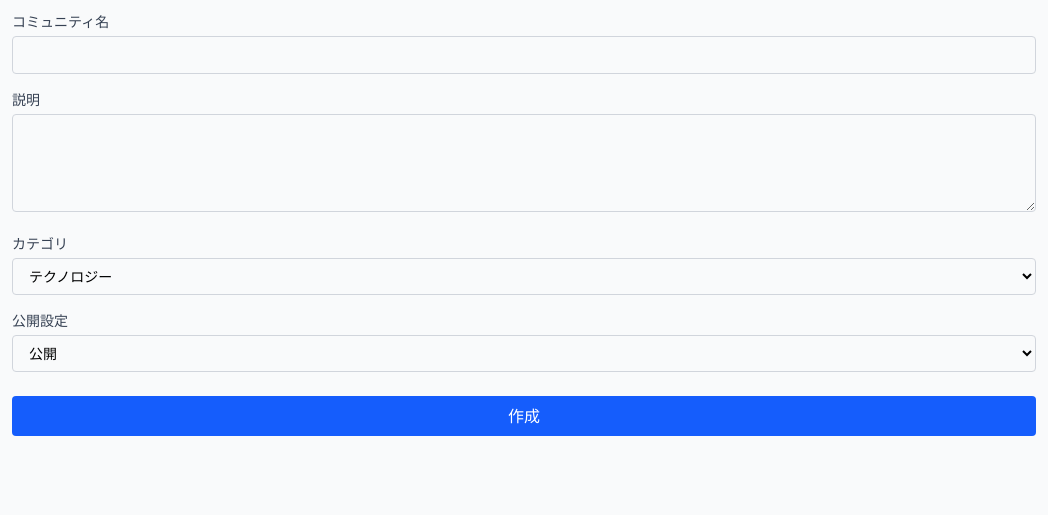
it: CommunityCreateForm コンポーネント › 説明が未入力で送信するとバリデーションエラーを表示する
Type "テスト名" into the field labelled "コミュニティ名" at (524, 55), box [12, 36, 1036, 74]
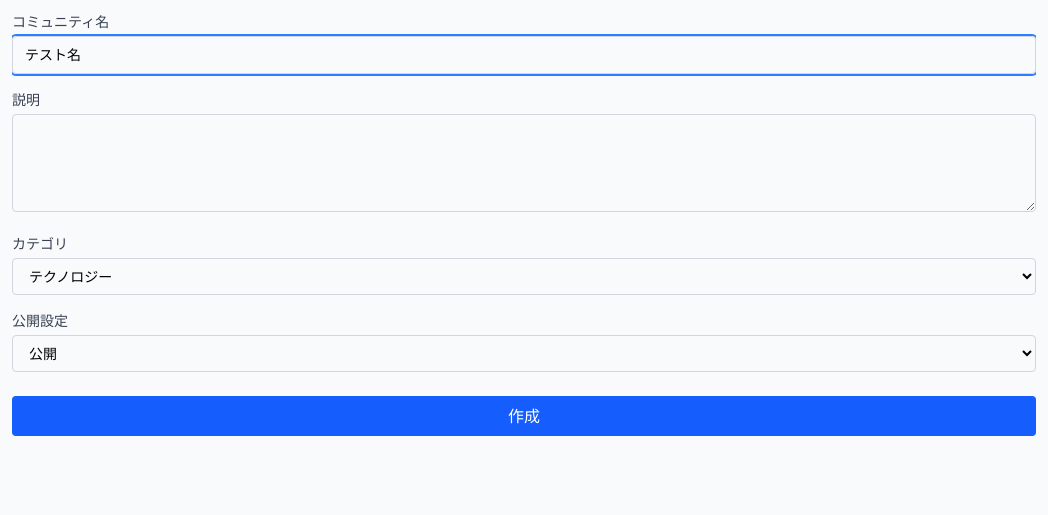
Click the button "作成" at (524, 416), box [12, 396, 1036, 436]
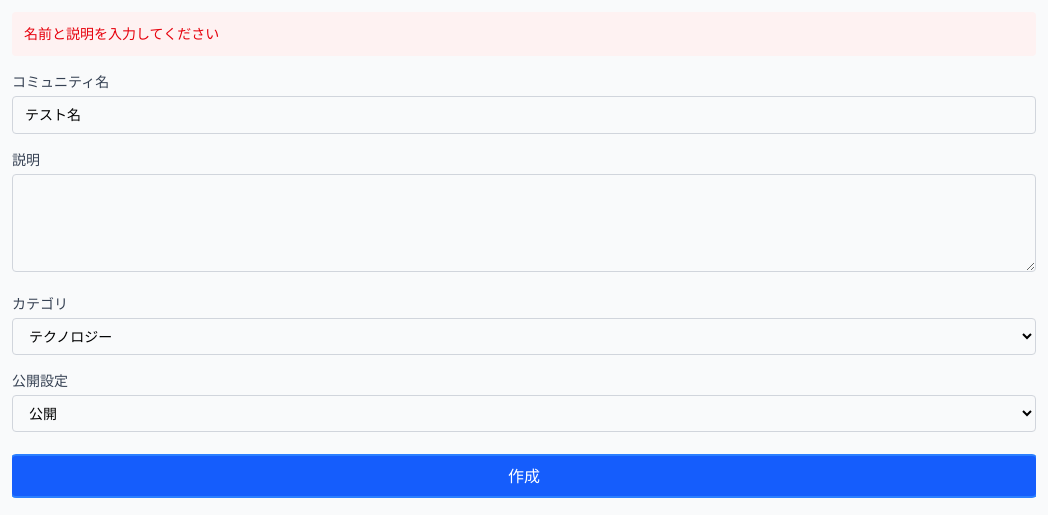
Expected: the message reads "名前と説明を入力してください", [24, 25, 219, 42]
